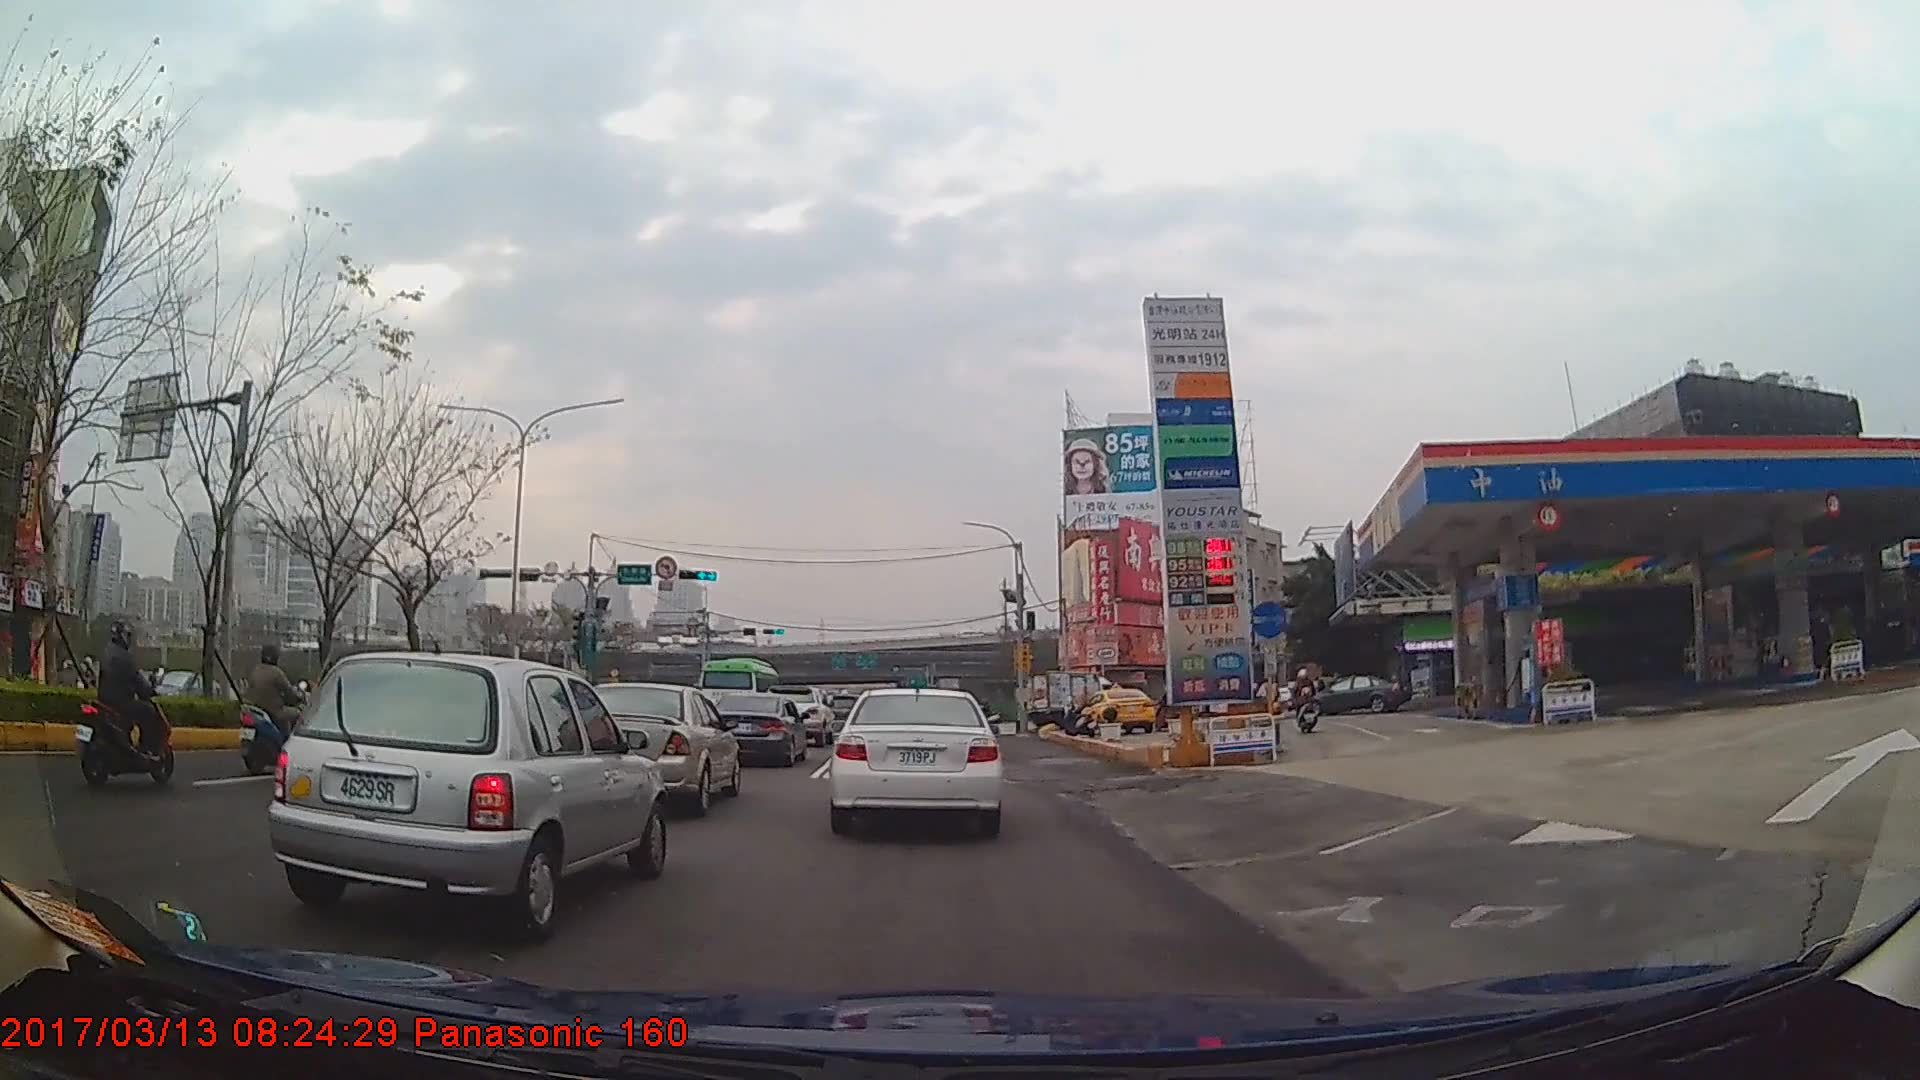rider: (74, 620, 173, 781), (231, 646, 319, 776), (1290, 669, 1321, 734), (1259, 675, 1280, 725)
vehicle: (262, 648, 669, 941), (828, 684, 1001, 836), (569, 680, 739, 816), (707, 689, 810, 767), (1016, 668, 1119, 728), (697, 654, 782, 720), (759, 684, 834, 746), (1305, 673, 1408, 712), (1084, 683, 1157, 732), (141, 664, 208, 710)
